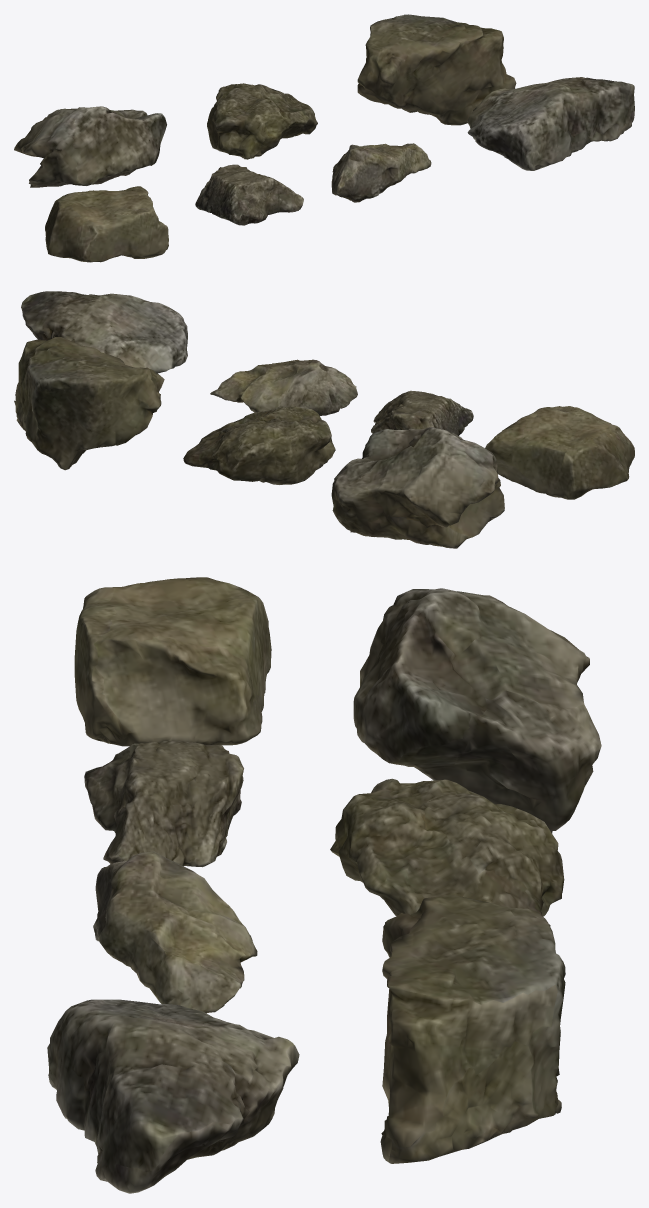
File: rock_moss_set_02.glb
The picture shows the model from 3 angles, top to bottom: view 1: azimuth 30°, elevation 25°; view 2: azimuth 150°, elevation 25°; view 3: azimuth 270°, elevation 25°; orthographic projection. The views are drawn at different scales.
Visible parts, largest first — view 1: rock_moss_set_02_rock13, rock_moss_set_02_rock10, rock_moss_set_02_rock11, rock_moss_set_02_rock07, rock_moss_set_02_rock12, rock_moss_set_02_rock08, rock_moss_set_02_rock09; view 2: rock_moss_set_02_rock11, rock_moss_set_02_rock13, rock_moss_set_02_rock07, rock_moss_set_02_rock10, rock_moss_set_02_rock12, rock_moss_set_02_rock09, rock_moss_set_02_rock08; view 3: rock_moss_set_02_rock13, rock_moss_set_02_rock11, rock_moss_set_02_rock10, rock_moss_set_02_rock07, rock_moss_set_02_rock12, rock_moss_set_02_rock09, rock_moss_set_02_rock08.
Part boxes in pixels (x1=…): rock_moss_set_02_rock13: x1=357, y1=14, x2=516, y2=125; rock_moss_set_02_rock10: x1=467, y1=77, x2=634, y2=170; rock_moss_set_02_rock11: x1=14, y1=106, x2=166, y2=187; rock_moss_set_02_rock07: x1=45, y1=186, x2=168, y2=262; rock_moss_set_02_rock12: x1=207, y1=83, x2=317, y2=159; rock_moss_set_02_rock08: x1=195, y1=164, x2=303, y2=225; rock_moss_set_02_rock09: x1=331, y1=143, x2=431, y2=202; rock_moss_set_02_rock11: x1=331, y1=427, x2=504, y2=548; rock_moss_set_02_rock13: x1=14, y1=337, x2=164, y2=470; rock_moss_set_02_rock07: x1=485, y1=406, x2=634, y2=499; rock_moss_set_02_rock10: x1=21, y1=291, x2=187, y2=373; rock_moss_set_02_rock12: x1=183, y1=406, x2=335, y2=484; rock_moss_set_02_rock09: x1=210, y1=359, x2=357, y2=415; rock_moss_set_02_rock08: x1=371, y1=390, x2=473, y2=435; rock_moss_set_02_rock13: x1=380, y1=895, x2=565, y2=1163; rock_moss_set_02_rock11: x1=353, y1=588, x2=601, y2=833; rock_moss_set_02_rock10: x1=47, y1=999, x2=299, y2=1193; rock_moss_set_02_rock07: x1=74, y1=577, x2=271, y2=746; rock_moss_set_02_rock12: x1=330, y1=778, x2=564, y2=926; rock_moss_set_02_rock09: x1=93, y1=851, x2=257, y2=1013; rock_moss_set_02_rock08: x1=84, y1=741, x2=243, y2=867.
Size of the model in its own units: 8.28 by 1.37 by 3.41.
1 material, 1 textured.
